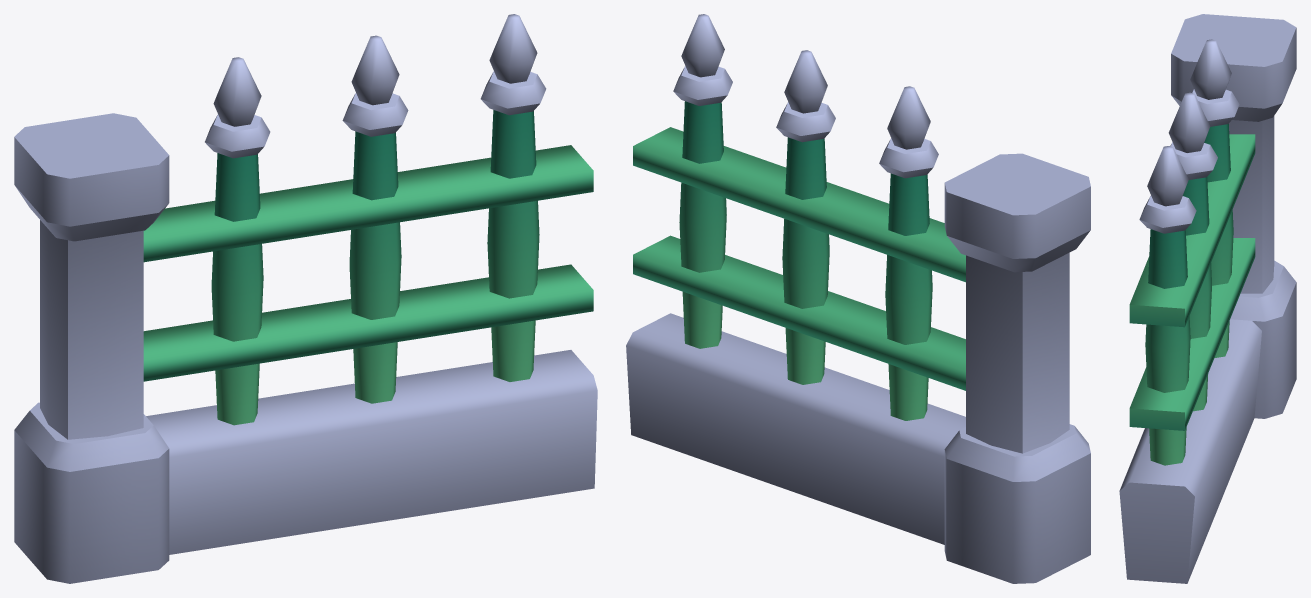
File: iron-fence-border-column.005_lev2.glb
The picture shows the model from 3 angles, left to right: view 1: azimuth 30°, elevation 25°; view 2: azimuth 150°, elevation 25°; view 3: azimuth 270°, elevation 25°; orthographic projection. The views are drawn at different scales.
Visible parts, largest first — view 1: iron-fence-border-column.005_lev2; view 2: iron-fence-border-column.005_lev2; view 3: iron-fence-border-column.005_lev2.
Part boxes in pixels (bbox=[...]): iron-fence-border-column.005_lev2: bbox=[14, 14, 597, 583]; iron-fence-border-column.005_lev2: bbox=[626, 14, 1090, 583]; iron-fence-border-column.005_lev2: bbox=[1119, 14, 1296, 583].
Size of the model in its own units: 8.1 by 7.03 by 2.77.
Materials: 1 (1 with a texture image).
